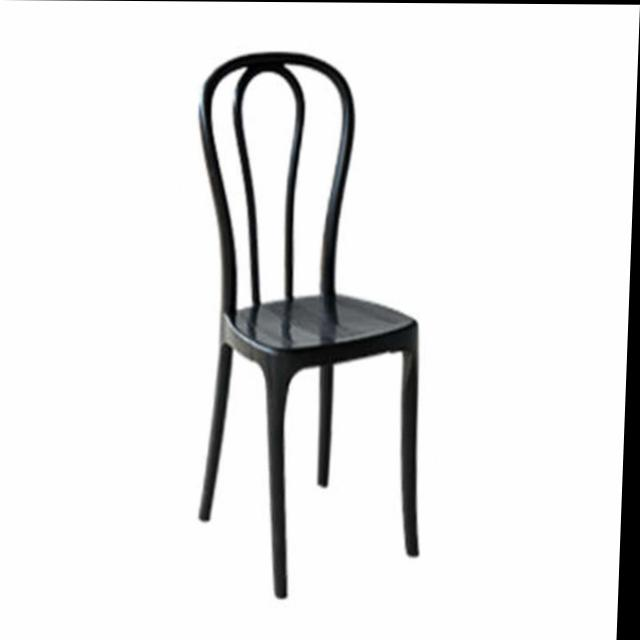Chair: (180, 48, 443, 603)
